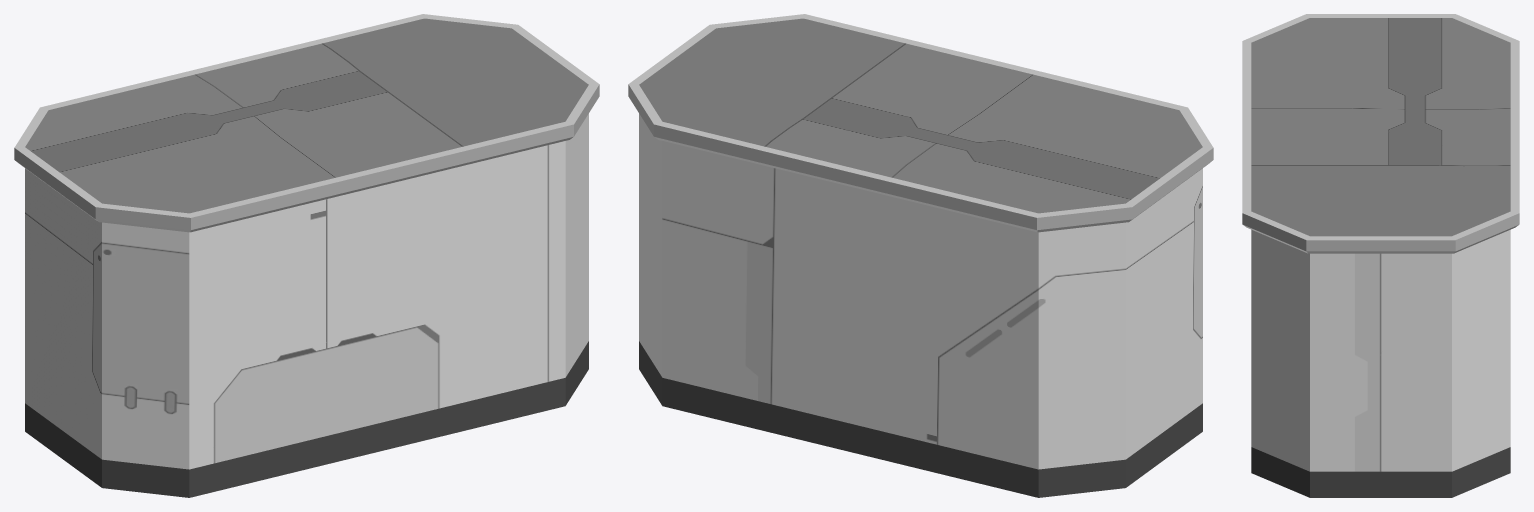
The model's file is SM_Platform_6.fbx.
3 renders of one model, left to right at view 1: azimuth 30°, elevation 25°; view 2: azimuth 150°, elevation 25°; view 3: azimuth 270°, elevation 25°, orthographic. The views are drawn at different scales.
Parts seen in each view (by area): view 1: SM_Platform_F; view 2: SM_Platform_F; view 3: SM_Platform_F.
Part boxes in pixels (x1=…): SM_Platform_F: x1=14, y1=14, x2=599, y2=497; SM_Platform_F: x1=628, y1=14, x2=1213, y2=497; SM_Platform_F: x1=1242, y1=14, x2=1519, y2=497.
Bounding box in the file's own units: 501 × 270 × 260.
